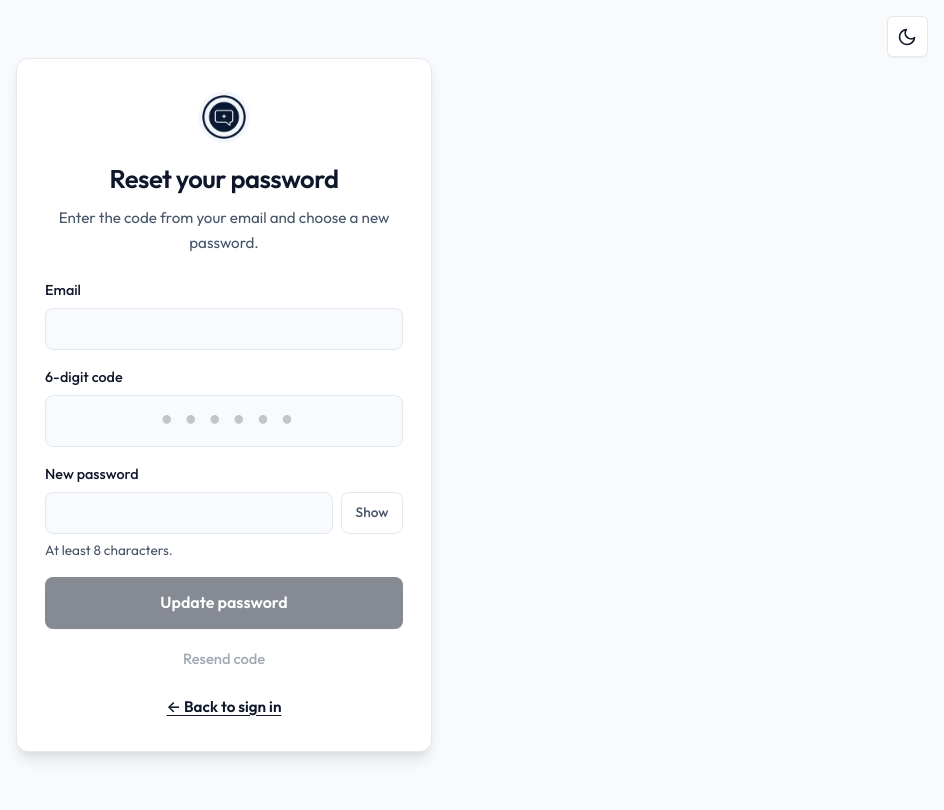
Scenario: forgot and reset password › shows the error for a bad reset code and keeps the form
This screenshot has width=944, height=810.
Type "a@example.com" into the field labelled "Email" at (224, 329), box [45,308,403,350]
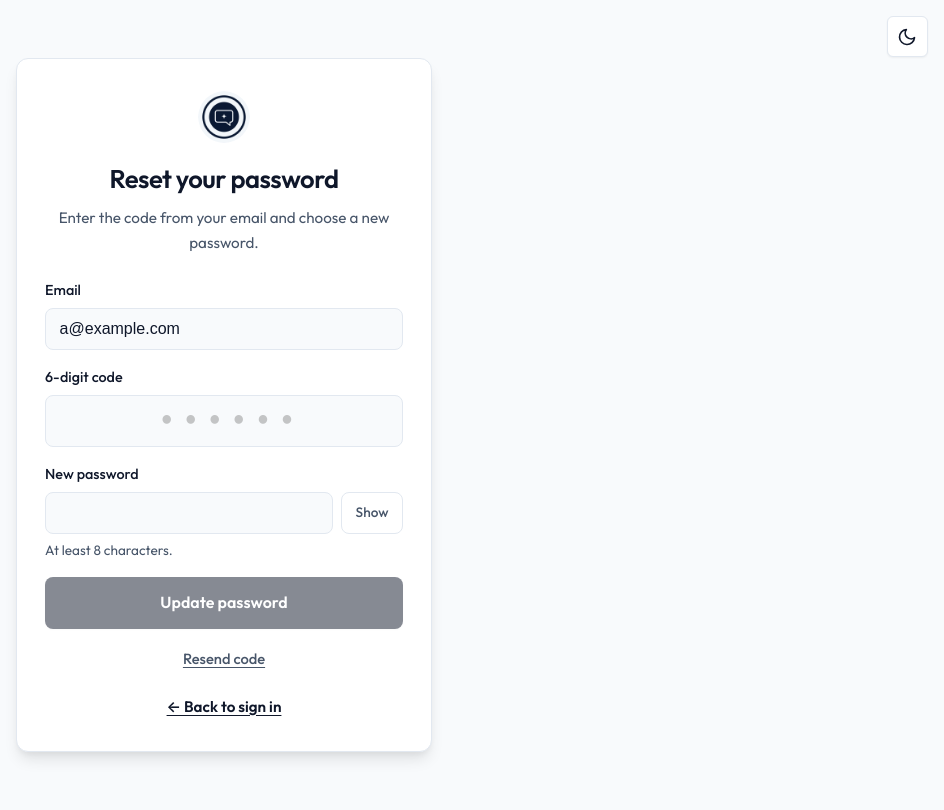
Type "000000" into the field labelled "6-digit code" at (224, 421), box [45,395,403,447]
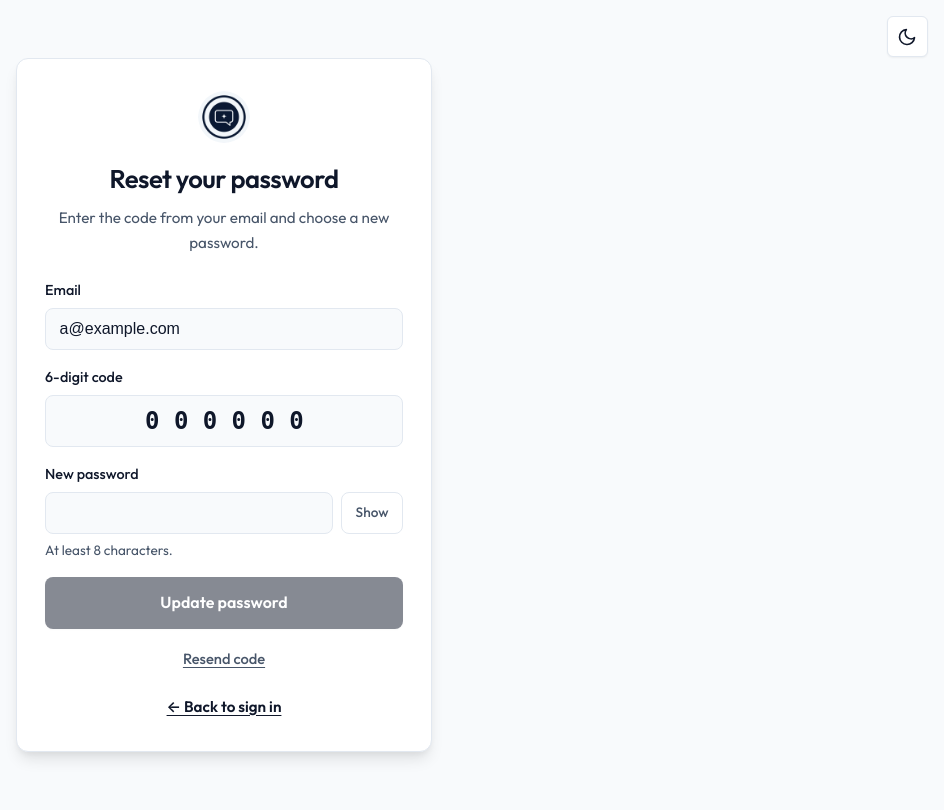
Type "brand-new-pass-9" into the password field labelled "New password" at (189, 513), box [45,492,333,534]
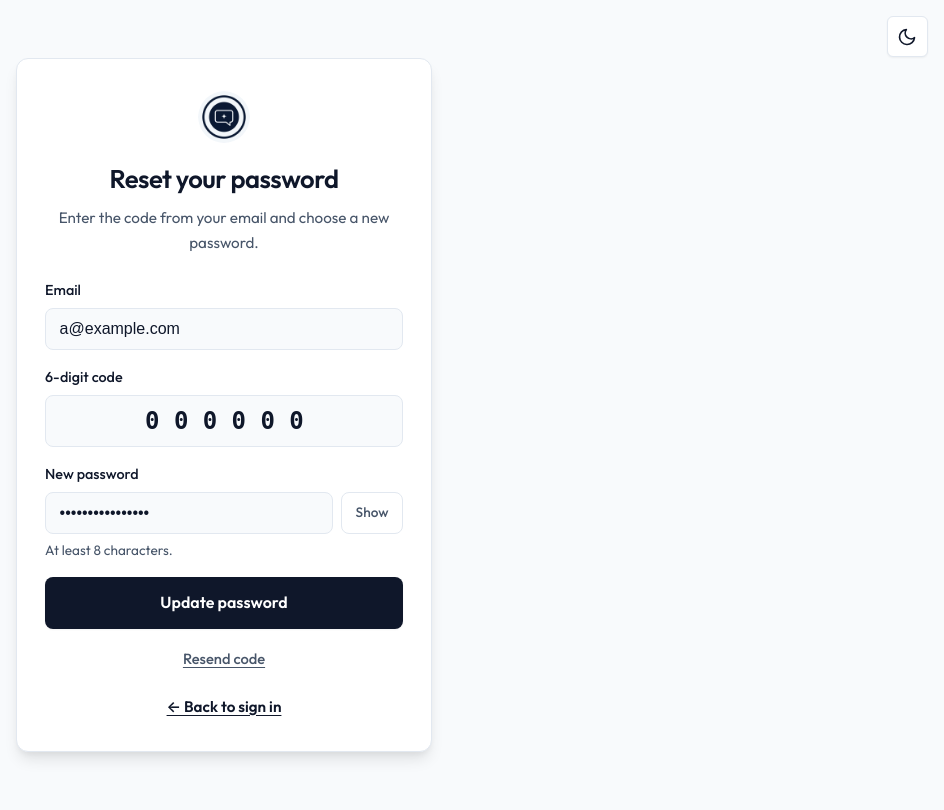
Click the button "Update password" at (224, 603), box [45,578,403,629]
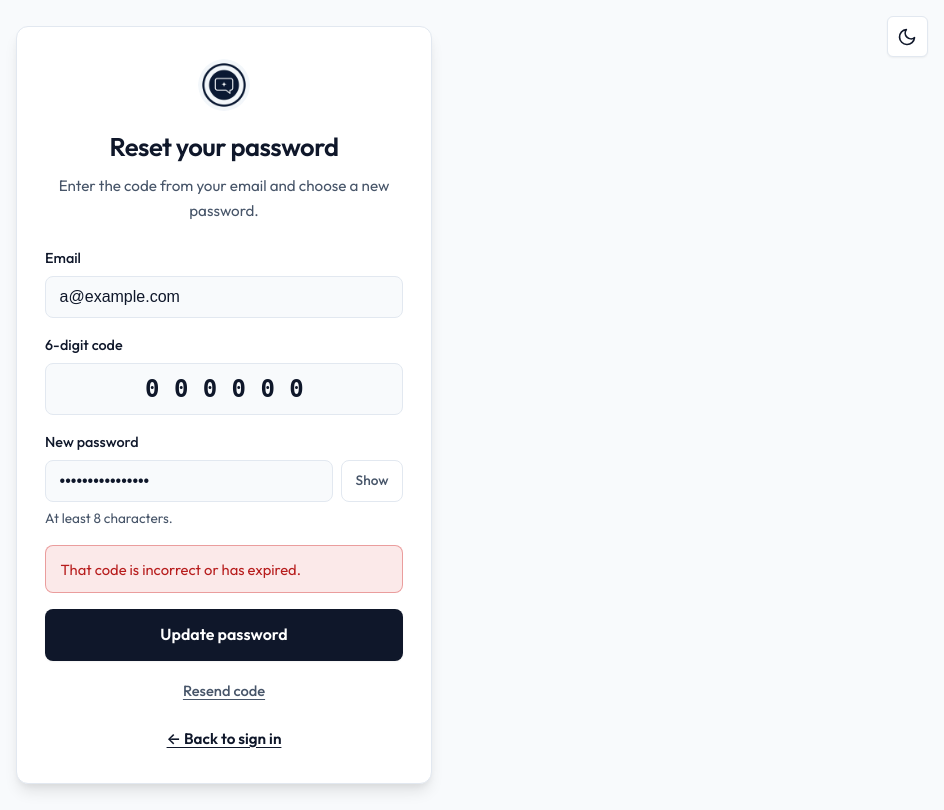
Expected: the text "That code is incorrect or has expired." is shown, [45,546,403,593]
